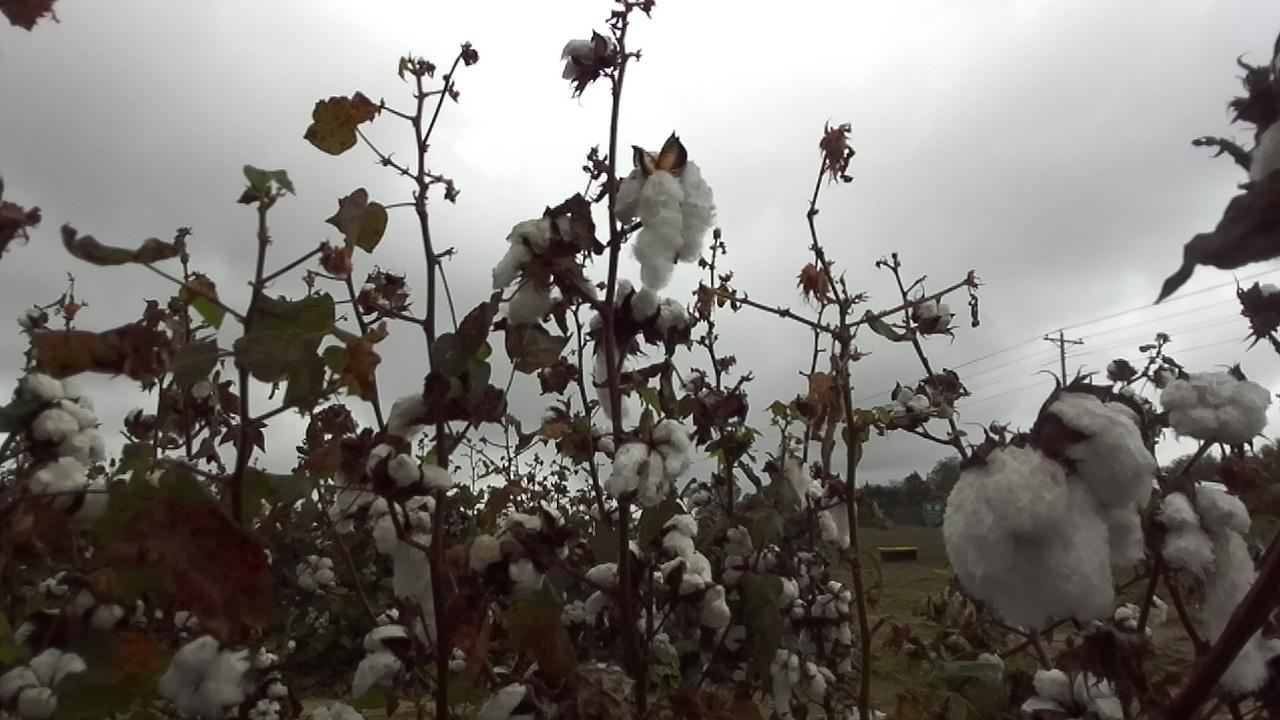cotton_ready: (942, 440, 1146, 630), (1160, 487, 1265, 694), (617, 150, 717, 291), (1049, 394, 1157, 511), (488, 212, 579, 327), (590, 278, 658, 418), (364, 397, 459, 497), (371, 499, 434, 648), (1161, 370, 1272, 445), (159, 637, 249, 720), (609, 420, 690, 506), (0, 650, 90, 720), (27, 457, 112, 524), (1021, 667, 1124, 720), (349, 624, 412, 708), (23, 374, 99, 442), (656, 559, 732, 627), (467, 535, 544, 593), (508, 497, 570, 565), (64, 593, 144, 630), (586, 563, 642, 615), (480, 680, 550, 720), (560, 35, 614, 83), (816, 489, 860, 546), (658, 510, 699, 559), (1249, 122, 1280, 186), (777, 458, 812, 508), (885, 385, 932, 418), (917, 298, 953, 335), (656, 298, 689, 336)
